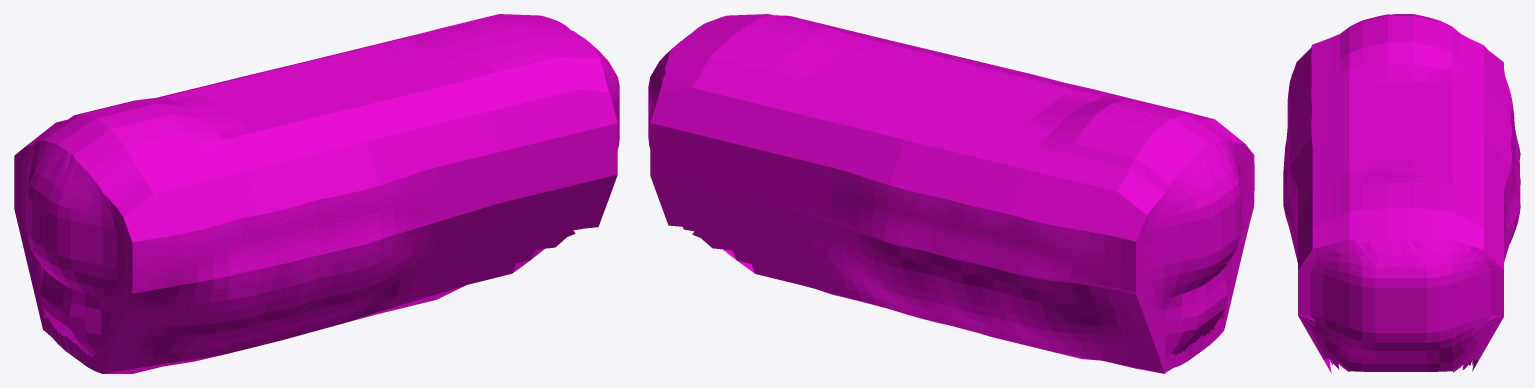
Rendered from bullfix.fbx.
The picture shows the model from 3 angles, left to right: view 1: azimuth 30°, elevation 25°; view 2: azimuth 150°, elevation 25°; view 3: azimuth 270°, elevation 25°; orthographic projection. The views are drawn at different scales.
Visible parts, largest first — view 1: pCube3; view 2: pCube3; view 3: pCube3.
Boxes of the visible parts, x1,y1,x2,y2 form: pCube3: [14, 14, 619, 373]; pCube3: [648, 14, 1254, 373]; pCube3: [1283, 14, 1520, 373].
Bounding box in the file's own units: 3.17 × 1.32 × 1.32.
